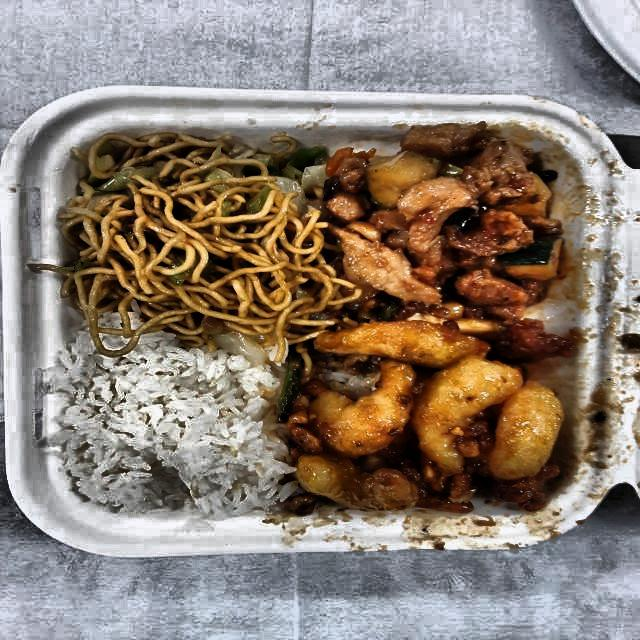Food: (284, 316, 576, 525), (60, 130, 328, 341), (325, 124, 575, 324), (55, 340, 286, 515)
